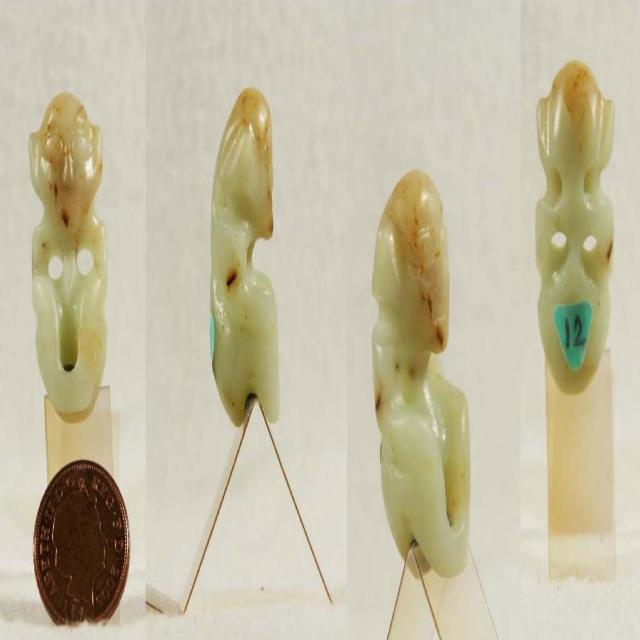Coin: (33, 459, 132, 625)
